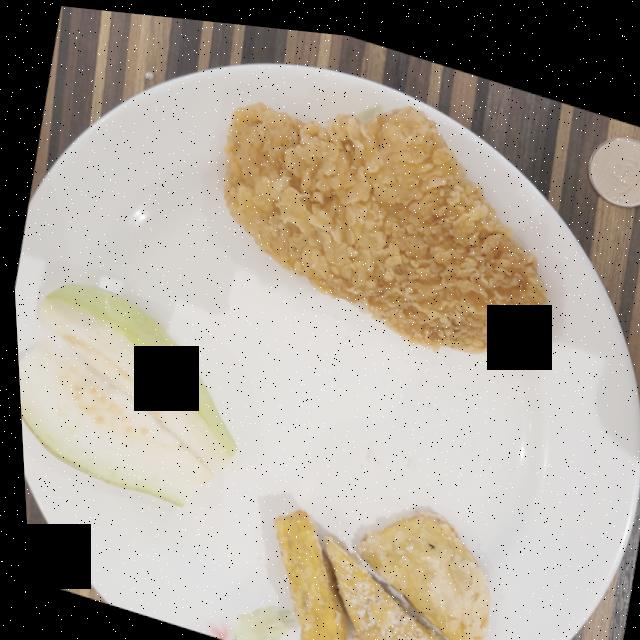coin: (587, 122, 640, 192)
fried chicken cutlet: (221, 96, 544, 353)
fried potato: (269, 502, 484, 640)
guava -sliced-: (15, 281, 231, 502)
